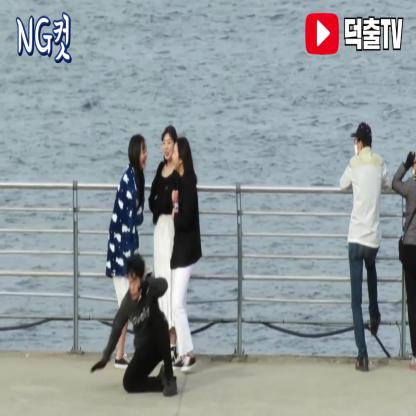Fall_Down: (90, 255, 178, 398)
